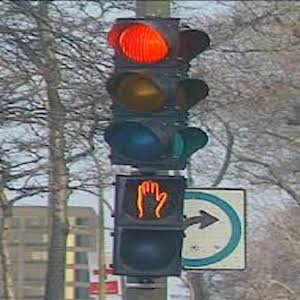red: (122, 180, 172, 218)
